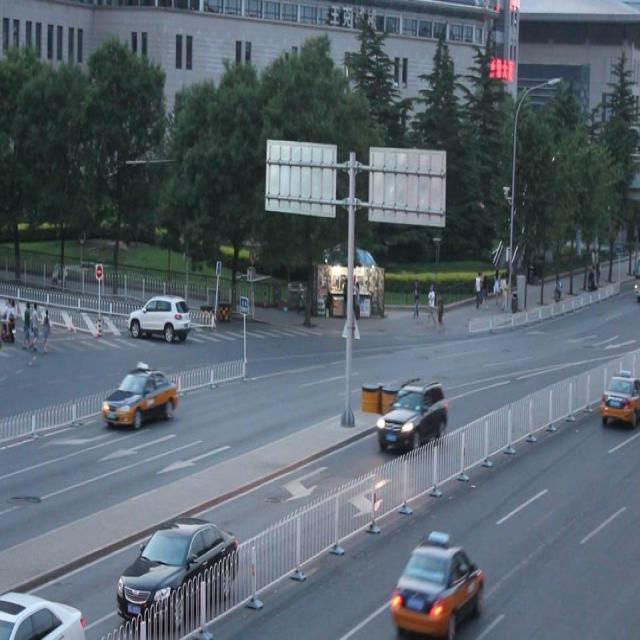car: (118, 520, 239, 632), (391, 540, 483, 626), (375, 380, 449, 450), (102, 365, 180, 428), (0, 589, 86, 640), (128, 294, 193, 346), (600, 368, 640, 421)
